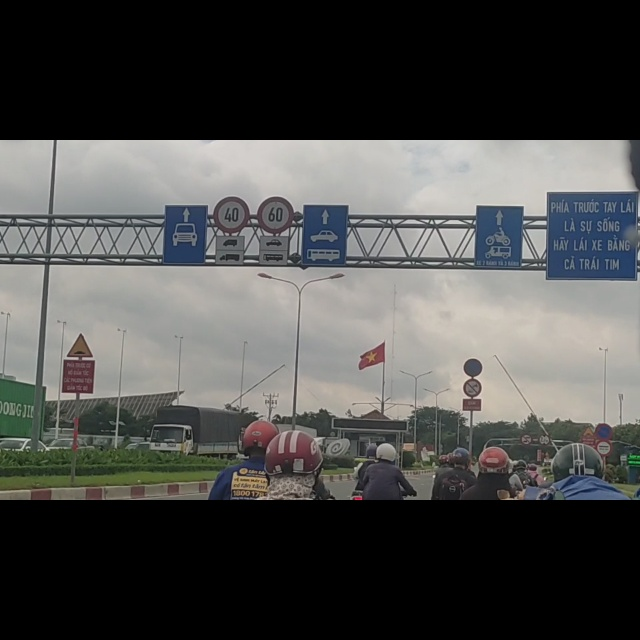bien_cam: (257, 101, 294, 166), (213, 100, 249, 166), (67, 340, 93, 386), (463, 424, 482, 457), (464, 388, 483, 420), (596, 504, 613, 532), (596, 535, 612, 562), (582, 508, 595, 527), (539, 523, 551, 543), (521, 521, 532, 540)
